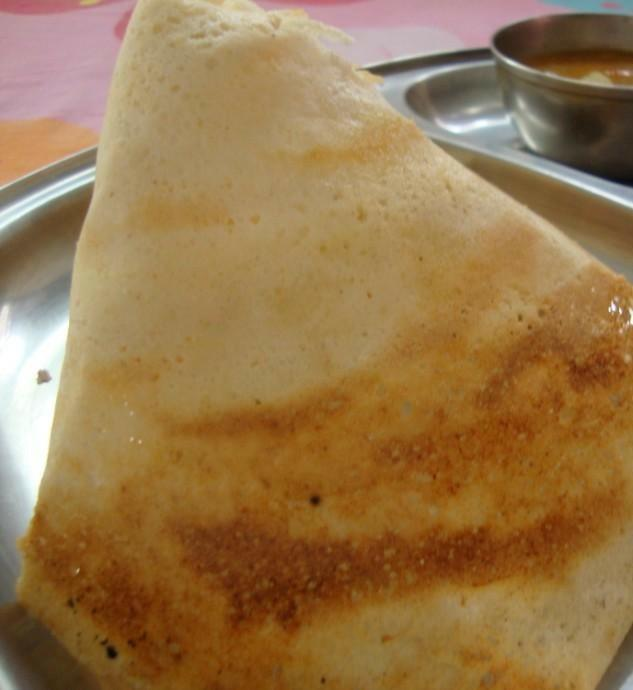Dosa: (16, 0, 633, 690)
